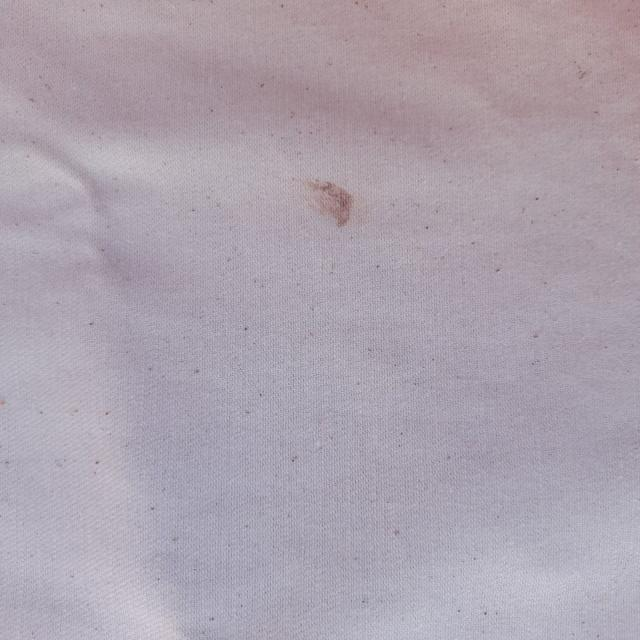taaaches: (291, 172, 365, 242)
